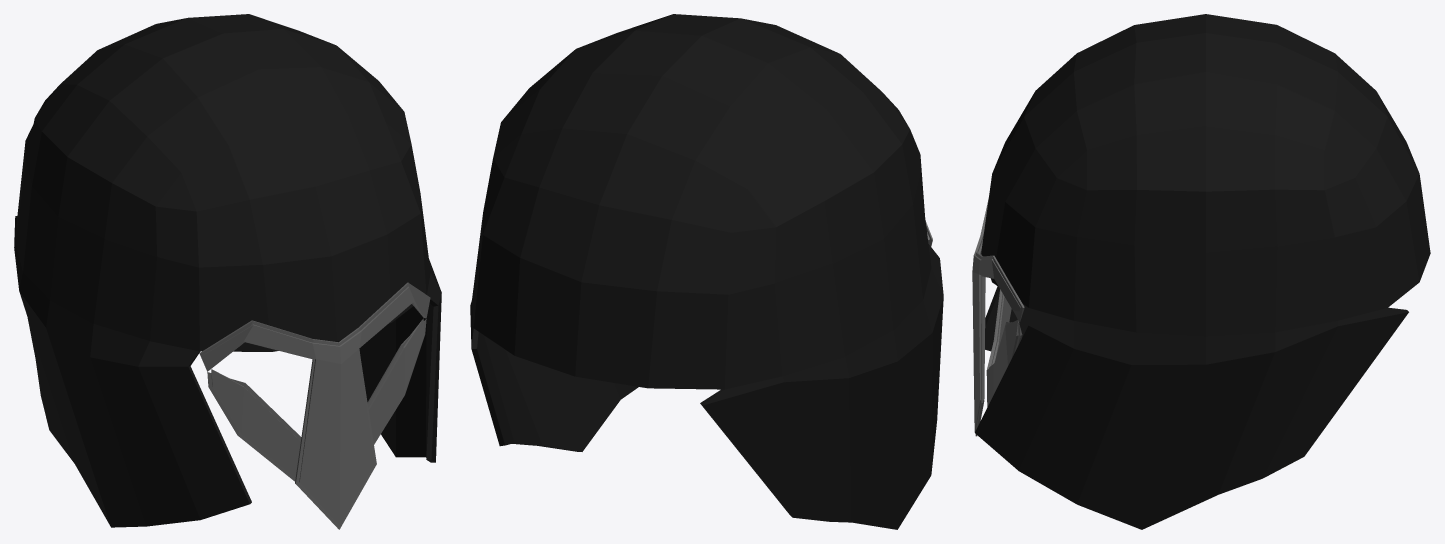
File: SM_HelmetViking_01.fbx
The picture shows the model from 3 angles, left to right: view 1: azimuth 30°, elevation 25°; view 2: azimuth 150°, elevation 25°; view 3: azimuth 270°, elevation 25°; orthographic projection. The views are drawn at different scales.
Parts seen in each view (by area): view 1: Casco; view 2: Casco; view 3: Casco.
Part boxes in pixels (x1,y1,x2,y2): Casco: [14, 14, 441, 529]; Casco: [470, 14, 943, 529]; Casco: [972, 14, 1430, 529].
Size of the model in its own units: 0.2433 by 0.2855 by 0.2773.
